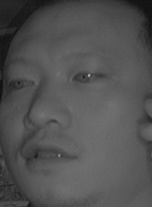eye: (69, 65, 105, 88), (7, 74, 37, 94)
mouth: (18, 136, 82, 174)
